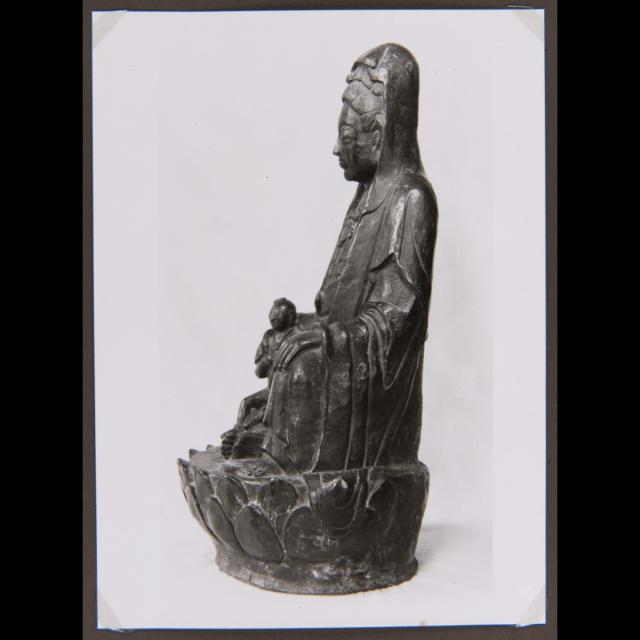buddha-sitting: (179, 44, 438, 593)
